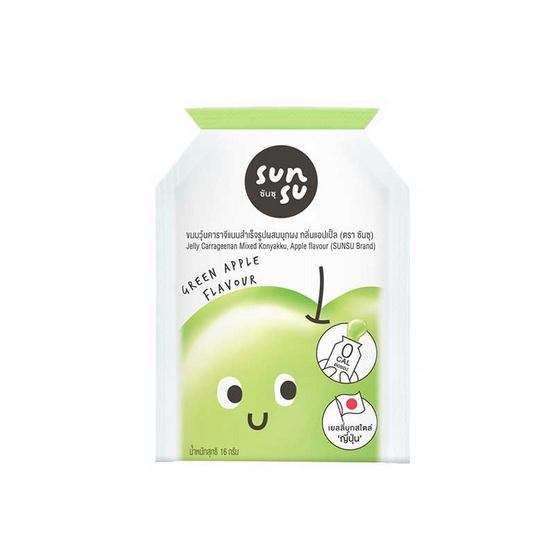plastic: (151, 96, 415, 467)
